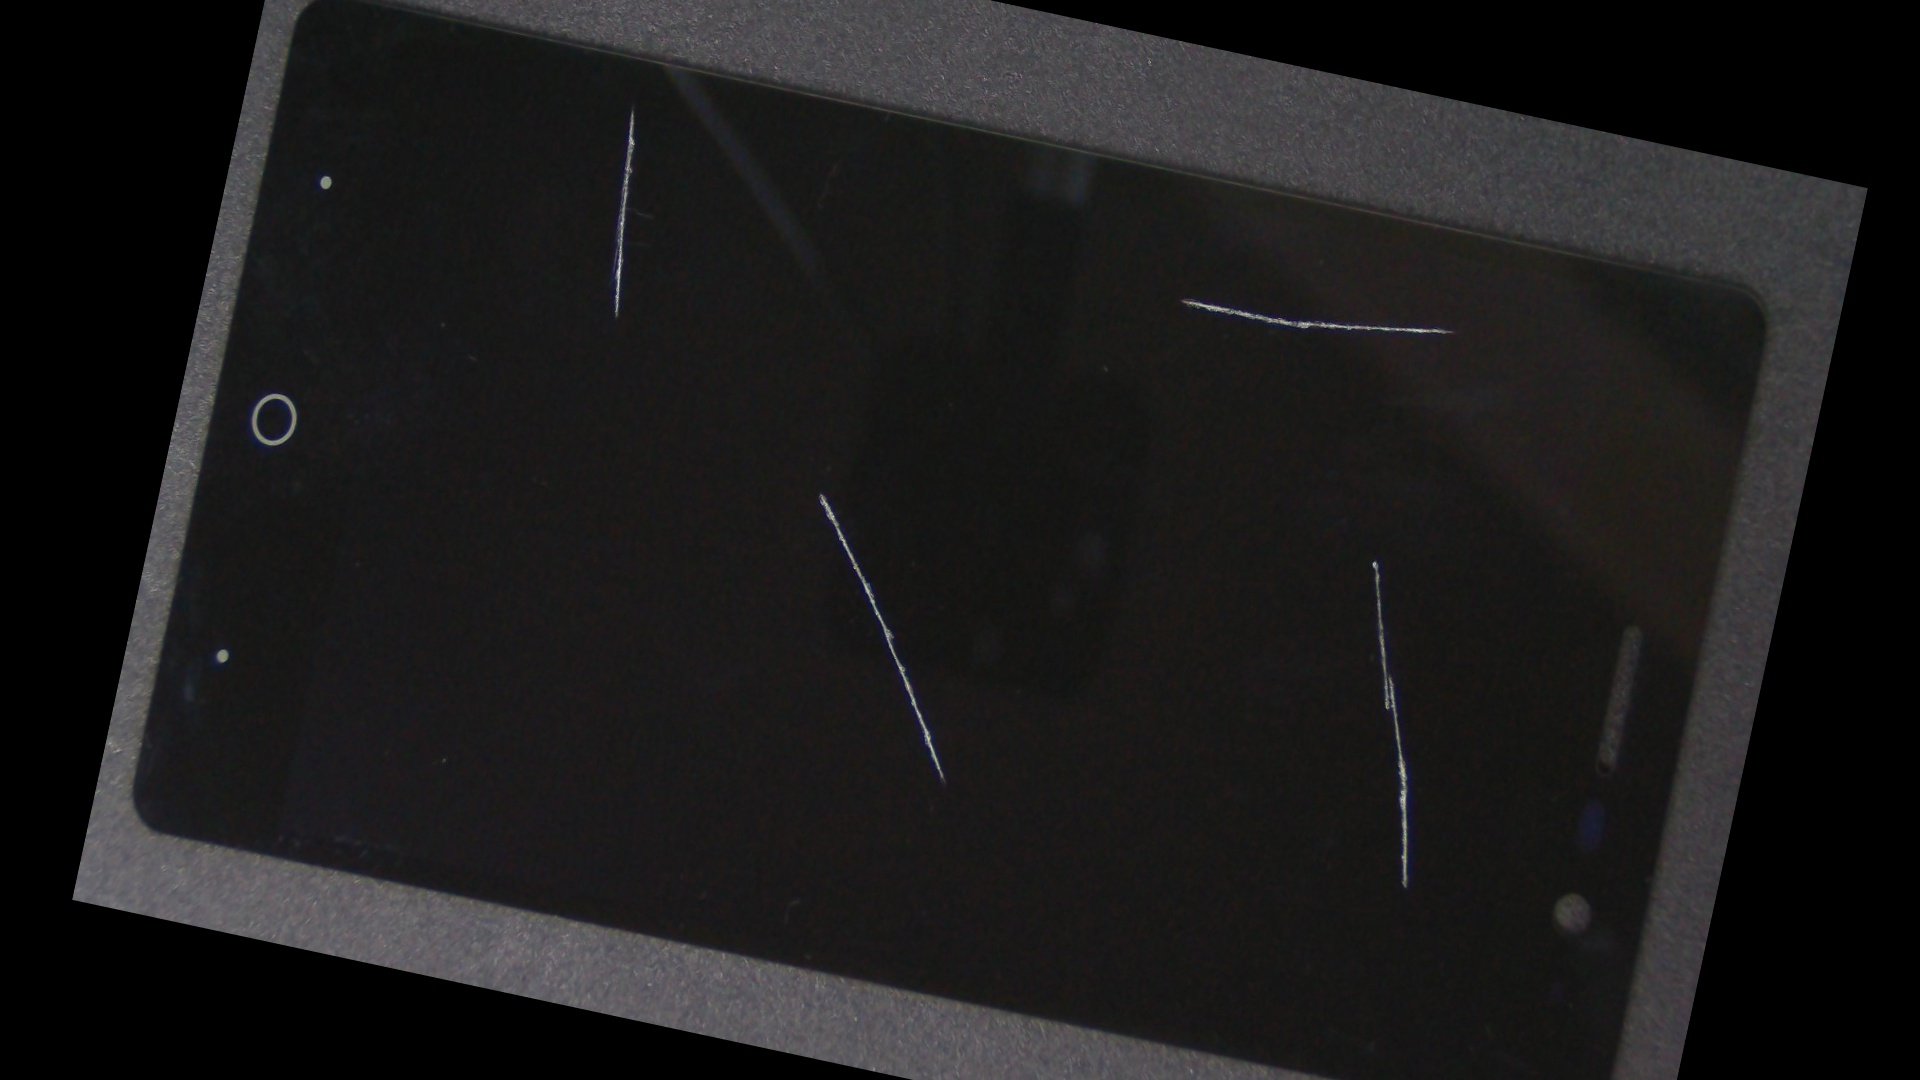oil: (738, 206, 1818, 873), (450, 171, 1189, 814), (820, 88, 1845, 520), (427, 0, 837, 236)
